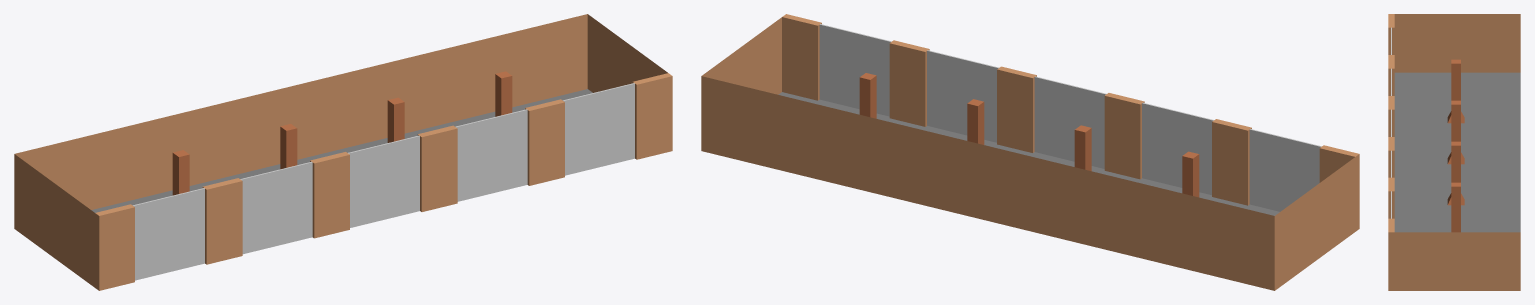
File: garage.obj
3 views of the same model, side by side, from view 1: azimuth 30°, elevation 25°; view 2: azimuth 150°, elevation 25°; view 3: azimuth 270°, elevation 25° (orthographic). The views are drawn at different scales.
Parts seen in each view (by area): view 1: garage; view 2: garage; view 3: garage.
Boxes of the visible parts, x1=… form: garage: x1=14, y1=14, x2=672, y2=290; garage: x1=701, y1=14, x2=1359, y2=290; garage: x1=1388, y1=14, x2=1520, y2=290.
Bounding box in the file's own units: 160 × 20 × 41.
1 material, 1 textured.
